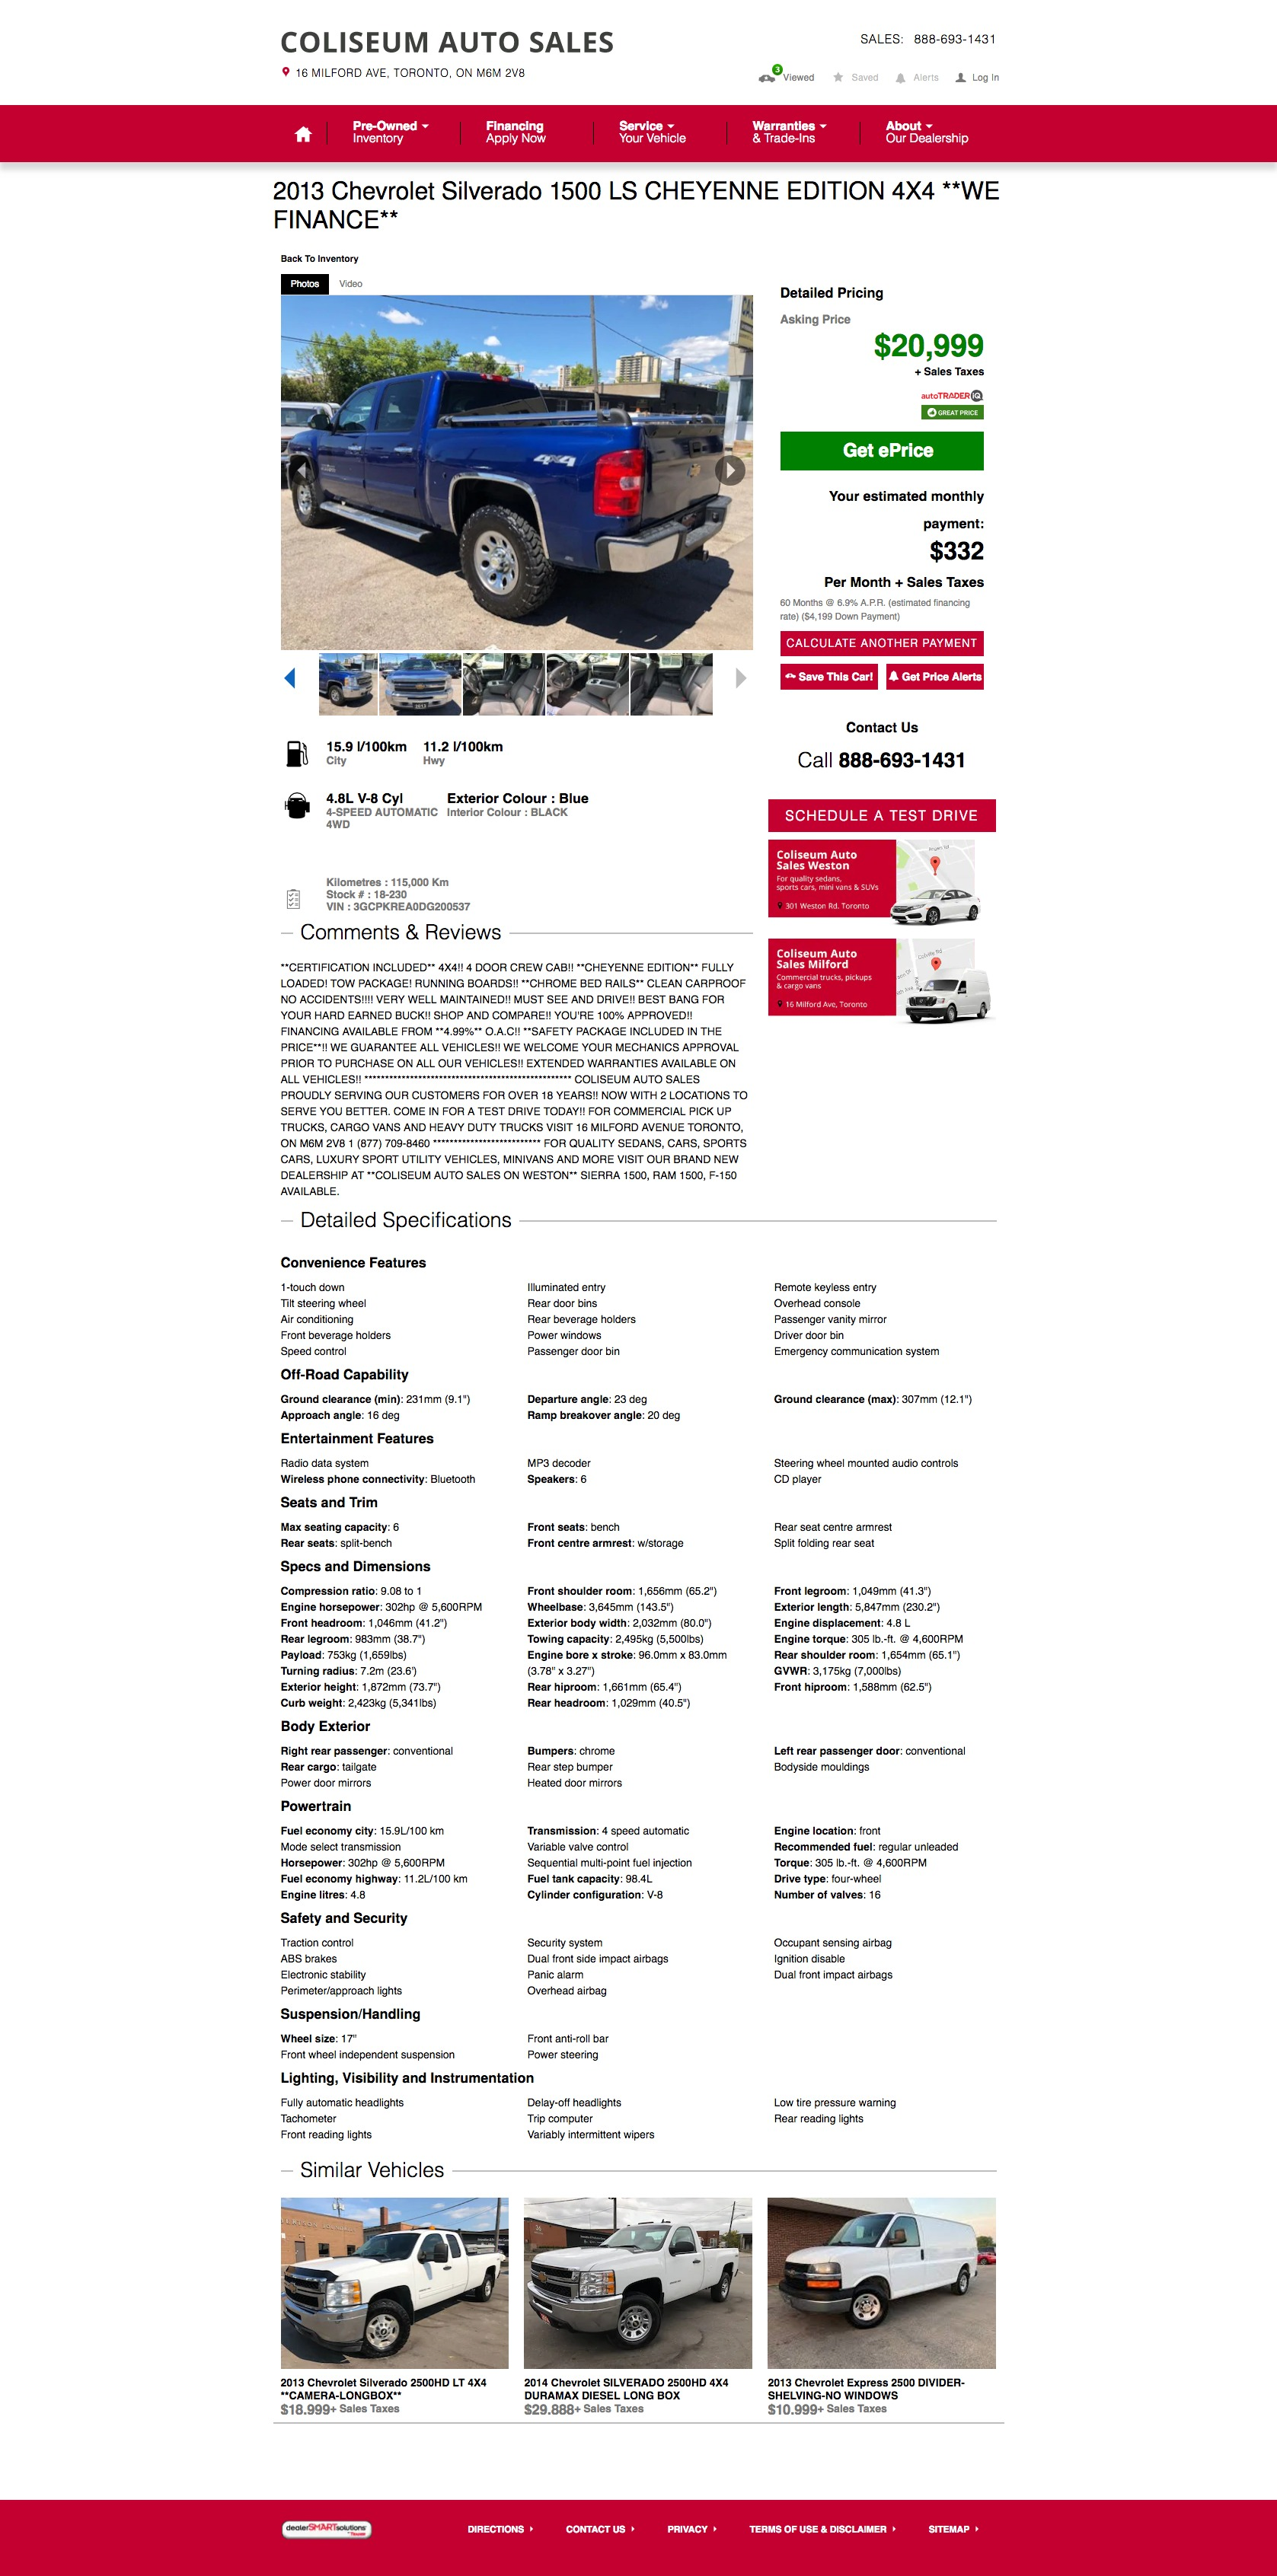car: (735, 667, 748, 690)
